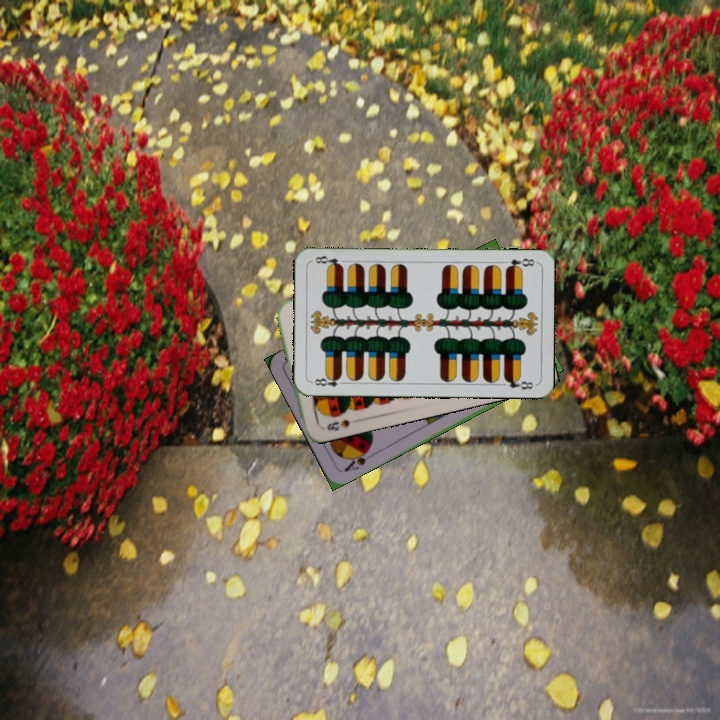E8: (308, 372, 349, 389), (502, 255, 537, 272)
S8: (323, 416, 353, 433)
SA: (340, 444, 373, 475)
